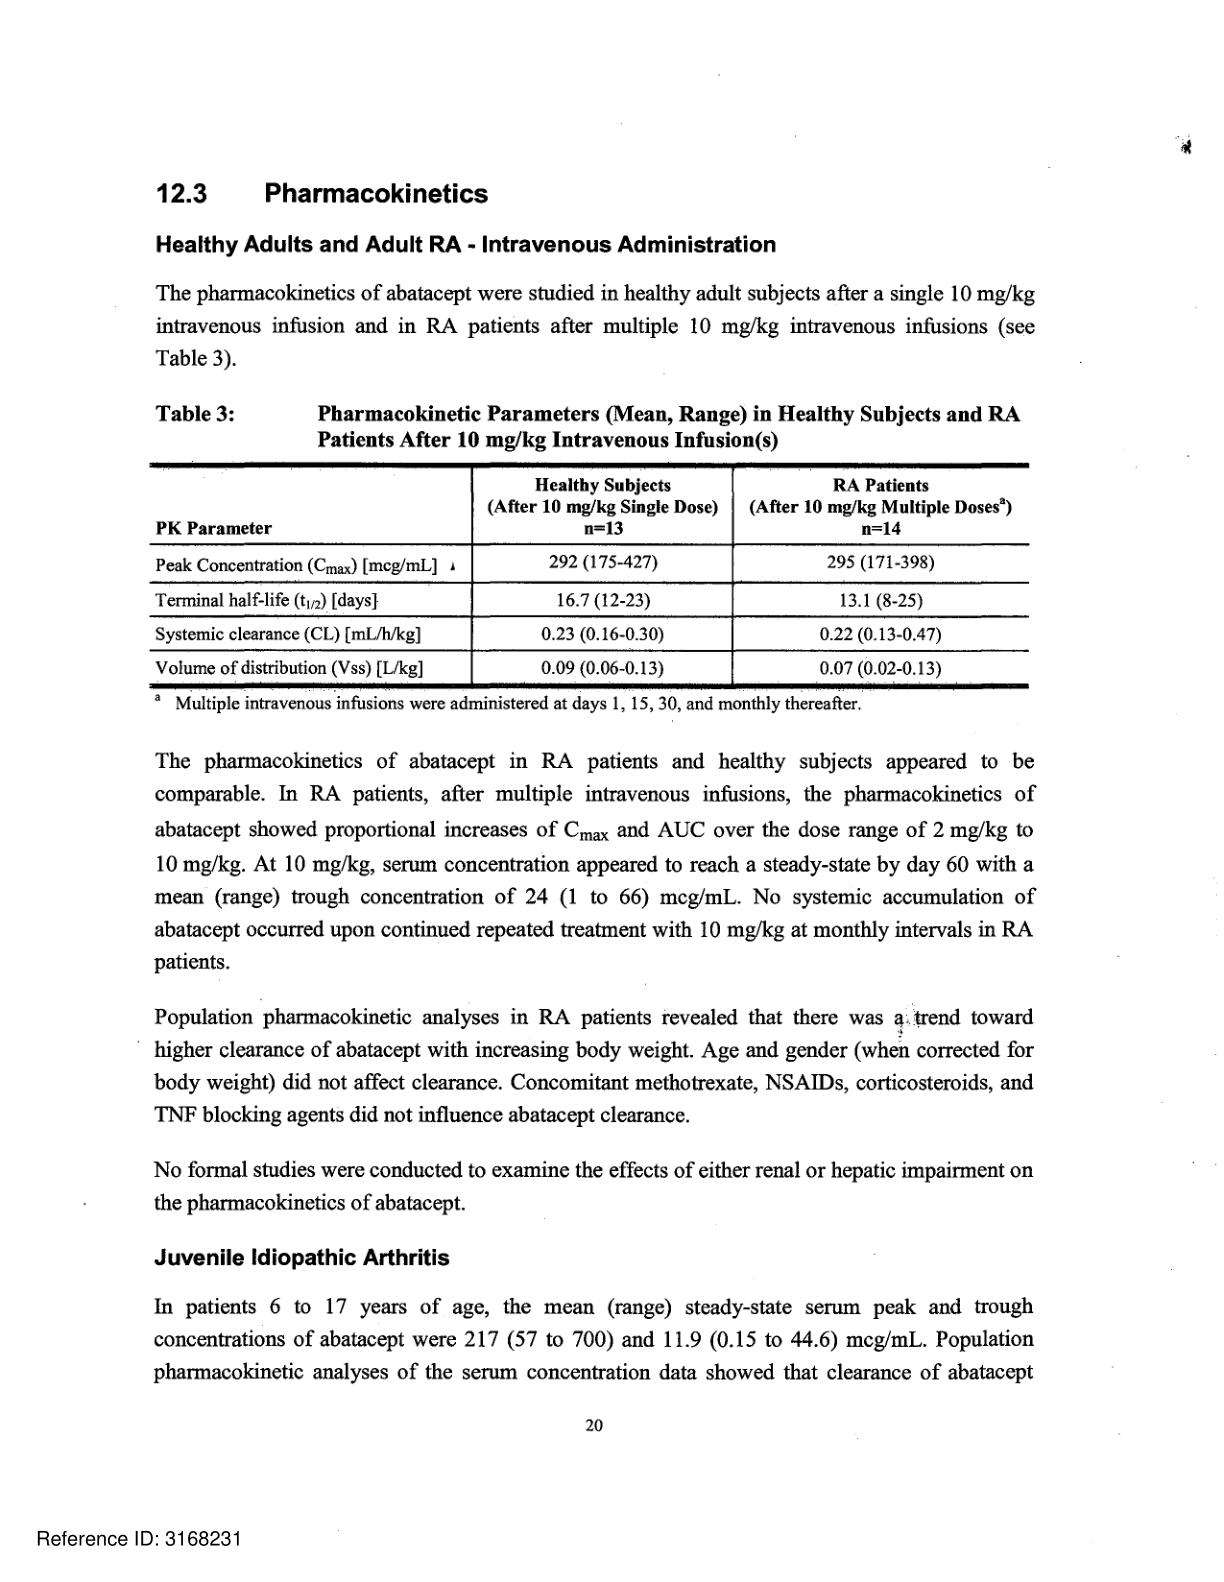partial_lined: (148, 462, 1030, 690)
